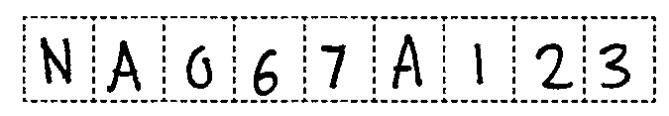0: (181, 38, 219, 92)
1: (457, 38, 497, 90)
2: (530, 38, 578, 94)
3: (593, 36, 636, 93)
6: (246, 46, 284, 99)
7: (313, 39, 353, 91)
A: (387, 30, 429, 94), (104, 36, 145, 97)
N: (34, 31, 78, 88)
